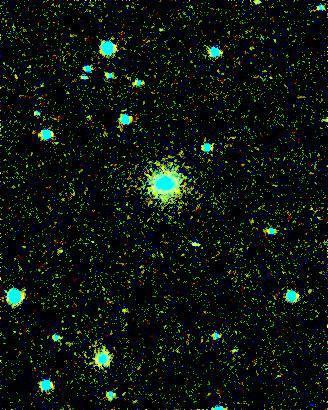star: (114, 292, 144, 322)
